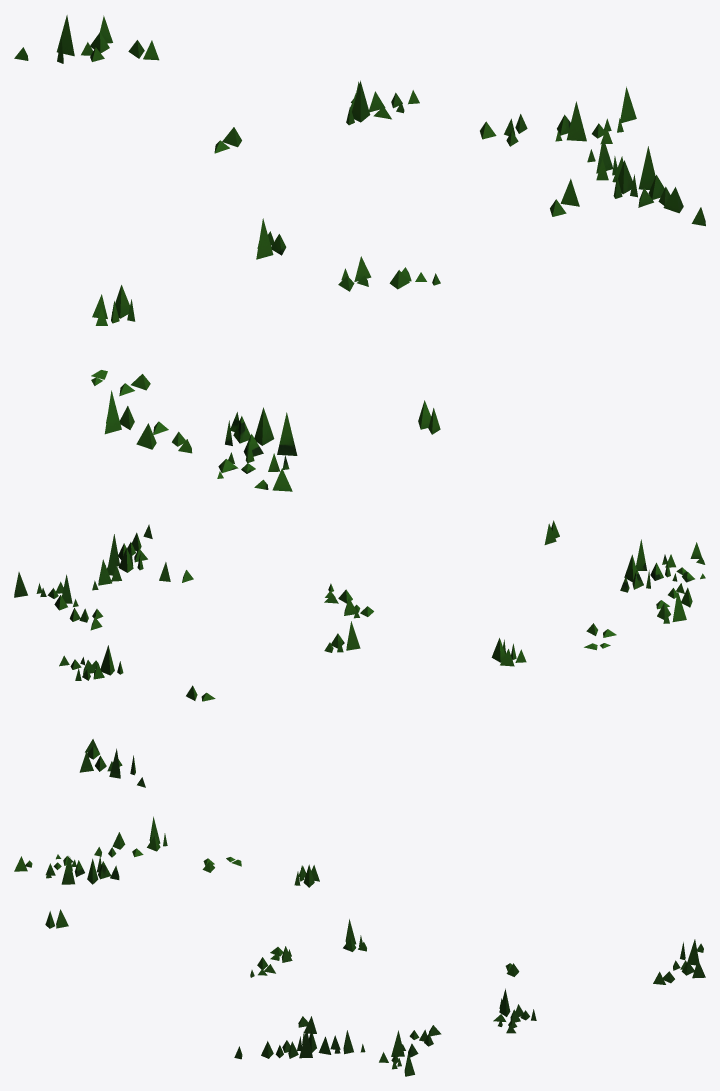
File: Plant_01.FBX
3 views of the same model, one above another, from view 1: azimuth 30°, elevation 25°; view 2: azimuth 150°, elevation 25°; view 3: azimuth 270°, elevation 25° (orthographic). The views are drawn at different scales.
Visible parts, largest first — view 1: Plant_01; view 2: Plant_01; view 3: Plant_01.
Part boxes in pixels (x1,y1,x2,y2): Plant_01: [14, 15, 705, 491]; Plant_01: [14, 520, 705, 787]; Plant_01: [14, 816, 705, 1076].
Bounding box in the file's own units: 16.38 × 1.02 × 20.22.
